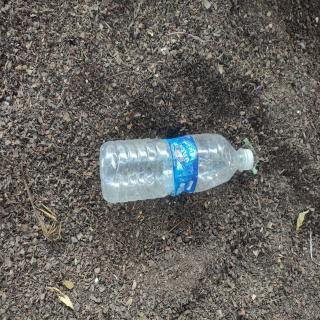Plastic-bottle: (97, 130, 258, 208)
